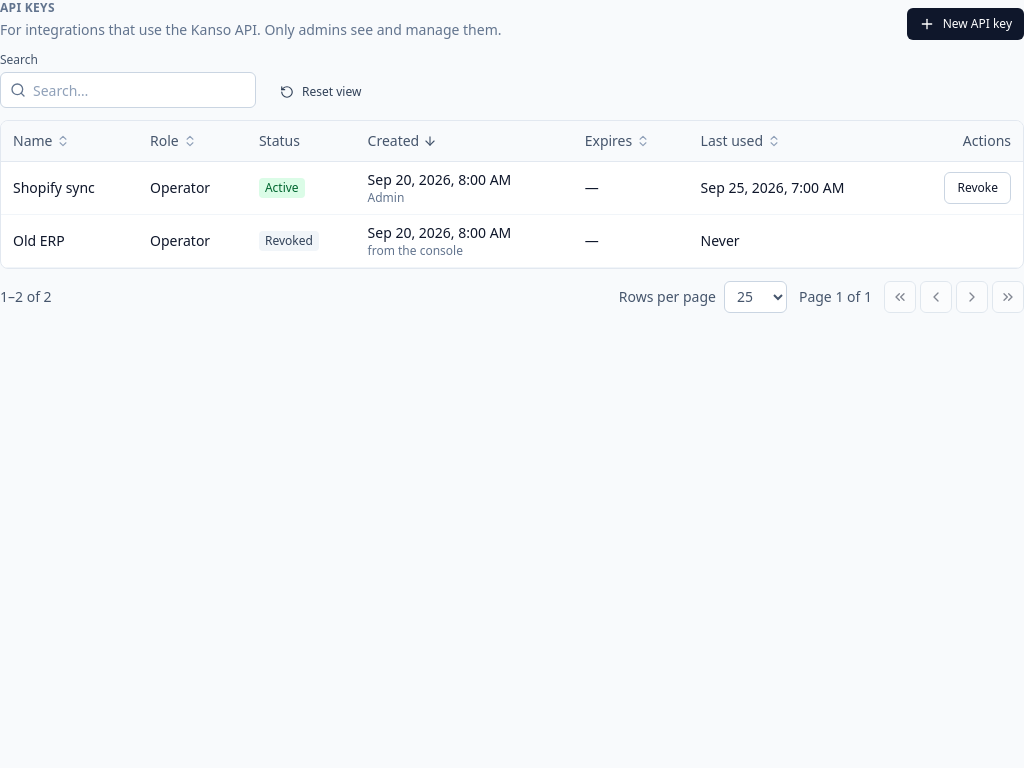
API key settings › revokes a key after asking
The image size is (1024, 768).
Click the button with aria-label "Revoke Shopify sync" at [978, 188], box [944, 172, 1011, 204]
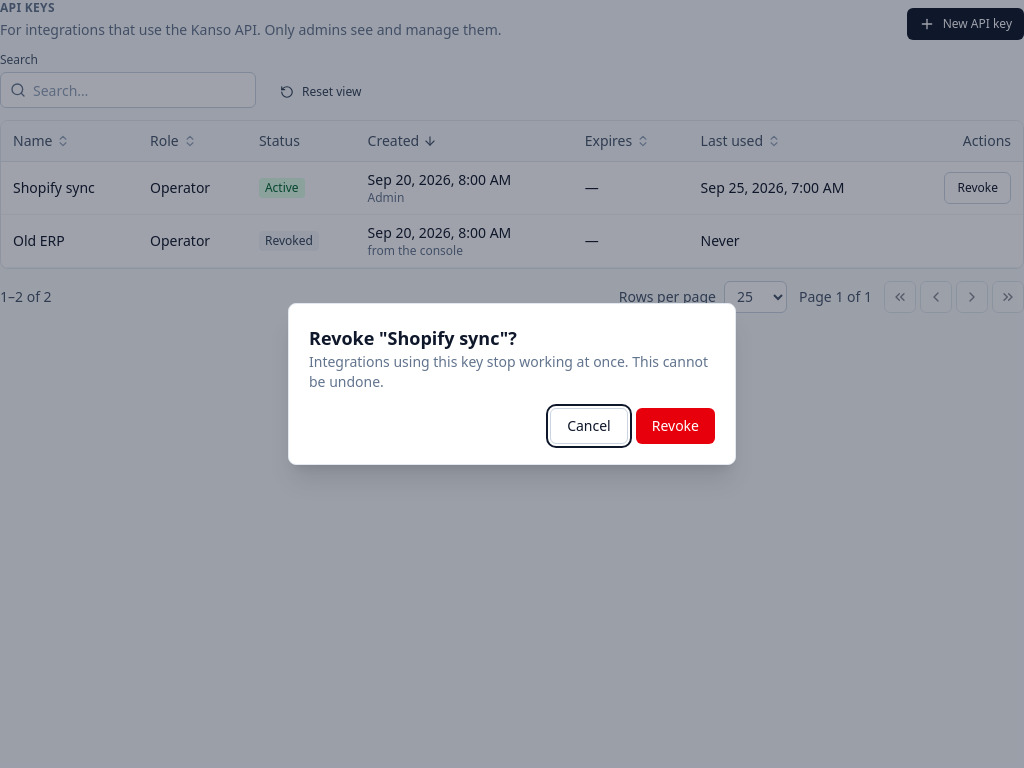
Click the button "Revoke" at [675, 426], box [636, 408, 715, 444]
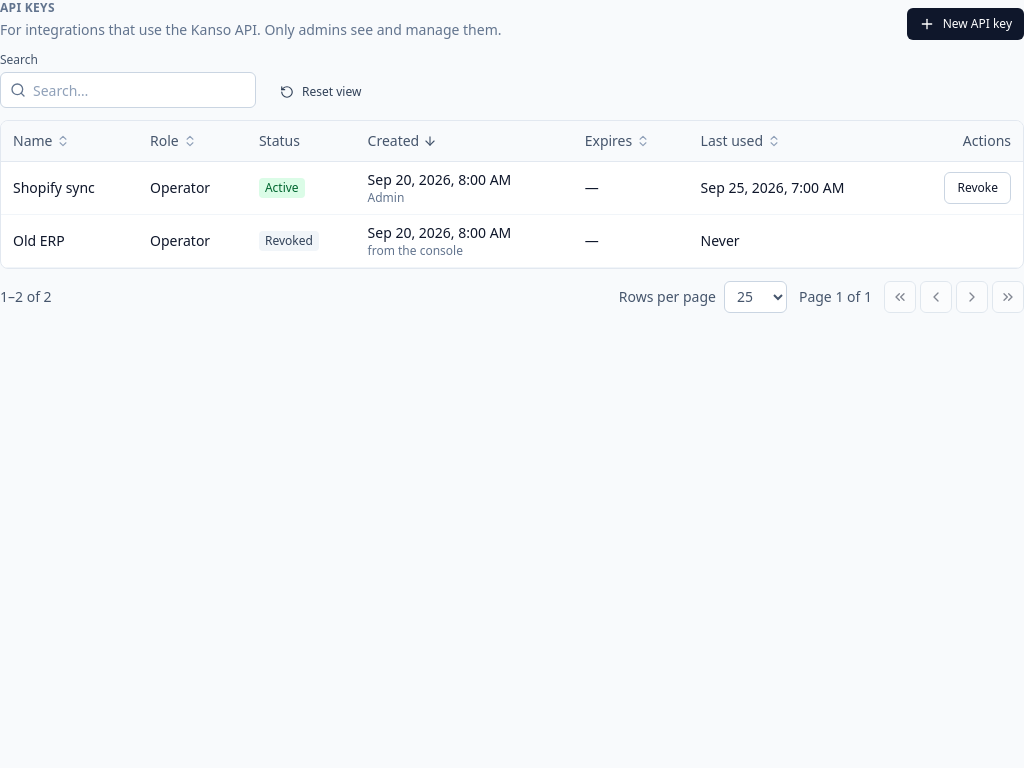
Result: the dialog is gone
